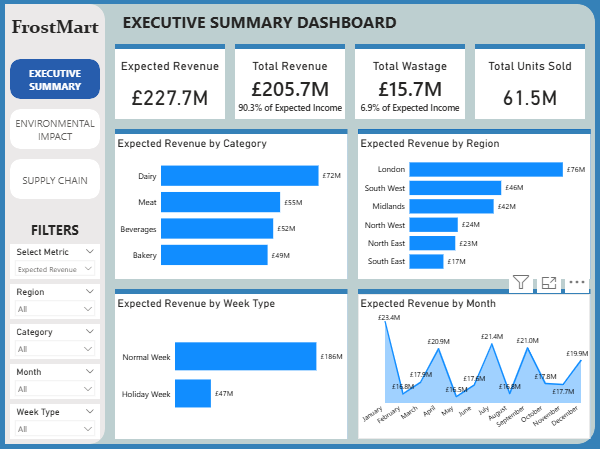

This screenshot's page, from the dashboard's own definition file:
{"tool":"powerbi","page":{"name":"1","canvas":[1200,900],"ordinal":0},"visuals":[{"type":"shape","box":[10,10,1180,880],"z":0},{"type":"shape","box":[10,10,200,880],"z":1000},{"type":"textbox","box":[240,20,650,50],"z":2000},{"type":"shape","box":[715,260,465,300],"z":3000},{"type":"barChart","fields":{"Y":["fact_sales.Expected Revenue"],"Category":["dim_store.Region"]},"box":[715,270,465,290],"z":4000},{"type":"actionButton","box":[20,320,180,80],"z":5000},{"type":"actionButton","box":[20,220,180,80],"z":6000},{"type":"actionButton","box":[20,120,180,80],"z":7000},{"type":"shape","box":[230,90,220,150],"z":8000},{"type":"shape","box":[470,90,220,150],"z":9000},{"type":"card","title":"Expected Revenue","fields":{"Values":["fact_sales.Expected Revenue"]},"box":[230,100,220,140],"z":10000},{"type":"cardVisual","title":"Total Revenue","fields":{"Data":["fact_sales.Total Revenue","dim_product.PCT Revenue"]},"box":[470,100,220,140],"z":11000},{"type":"shape","box":[710,90,220,150],"z":12000},{"type":"cardVisual","title":"Total Wastage","fields":{"Data":["fact_sales.Total Wastage","fact_sales.PCT Waste"]},"box":[710,100,220,140],"z":13000},{"type":"shape","box":[950,90,220,150],"z":14000},{"type":"card","title":"Total Units Sold","fields":{"Values":["fact_sales.Total Units Sold"]},"box":[950,100,220,140],"z":15000},{"type":"shape","box":[230.4,260,465,300],"z":16000},{"type":"shape","box":[230.4,580,465,300],"z":17000},{"type":"barChart","fields":{"Y":["fact_sales.Expected Revenue"],"Category":["dim_weather.Holiday_Check"]},"box":[230.4,590,465,290],"z":18000},{"type":"shape","box":[715,580,465,300],"z":19000},{"type":"areaChart","fields":{"Y":["fact_sales.Expected Revenue"],"Category":["fact_sales.Month"]},"box":[715,590,465,290],"z":20000},{"type":"slicer","fields":{"Values":["Selected Metric.Selected Metric"]},"box":[20,490,180,70],"z":21000},{"type":"textbox","box":[10,30,200,50],"z":22000},{"type":"textbox","box":[10,440,200,40],"z":23000},{"type":"barChart","fields":{"Y":["fact_sales.Expected Revenue"],"Category":["dim_product.Product_Category"]},"box":[230.4,270,465,290],"z":24000},{"type":"slicer","fields":{"Values":["dim_store.Region"]},"box":[20,570,180,70],"z":25000},{"type":"slicer","fields":{"Values":["fact_sales.Month"]},"box":[20,730,180,70],"z":26000},{"type":"slicer","fields":{"Values":["dim_weather.Holiday_Check"]},"box":[20,810,180,70],"z":27000},{"type":"slicer","fields":{"Values":["dim_product.Product_Category"]},"box":[20,650,180,70],"z":28000}]}

Visuals, with their boxes in screenshot pixels (x1, y1, x2, y2), scaled from the page's 1200x900 canvas onto the 600x449 screenshot:
shape: <box>5,5,595,444</box>
shape: <box>5,5,105,444</box>
textbox: <box>120,10,445,35</box>
shape: <box>358,130,590,279</box>
barChart - fact_sales.Expected Revenue x dim_store.Region: <box>358,135,590,279</box>
actionButton: <box>10,160,100,200</box>
actionButton: <box>10,110,100,150</box>
actionButton: <box>10,60,100,100</box>
shape: <box>115,45,225,120</box>
shape: <box>235,45,345,120</box>
"Expected Revenue" card: <box>115,50,225,120</box>
"Total Revenue" cardVisual: <box>235,50,345,120</box>
shape: <box>355,45,465,120</box>
"Total Wastage" cardVisual: <box>355,50,465,120</box>
shape: <box>475,45,585,120</box>
"Total Units Sold" card: <box>475,50,585,120</box>
shape: <box>115,130,348,279</box>
shape: <box>115,289,348,439</box>
barChart - fact_sales.Expected Revenue x dim_weather.Holiday_Check: <box>115,294,348,439</box>
shape: <box>358,289,590,439</box>
areaChart - fact_sales.Expected Revenue x fact_sales.Month: <box>358,294,590,439</box>
slicer - Selected Metric.Selected Metric: <box>10,244,100,279</box>
textbox: <box>5,15,105,40</box>
textbox: <box>5,220,105,239</box>
barChart - fact_sales.Expected Revenue x dim_product.Product_Category: <box>115,135,348,279</box>
slicer - dim_store.Region: <box>10,284,100,319</box>
slicer - fact_sales.Month: <box>10,364,100,399</box>
slicer - dim_weather.Holiday_Check: <box>10,404,100,439</box>
slicer - dim_product.Product_Category: <box>10,324,100,359</box>
